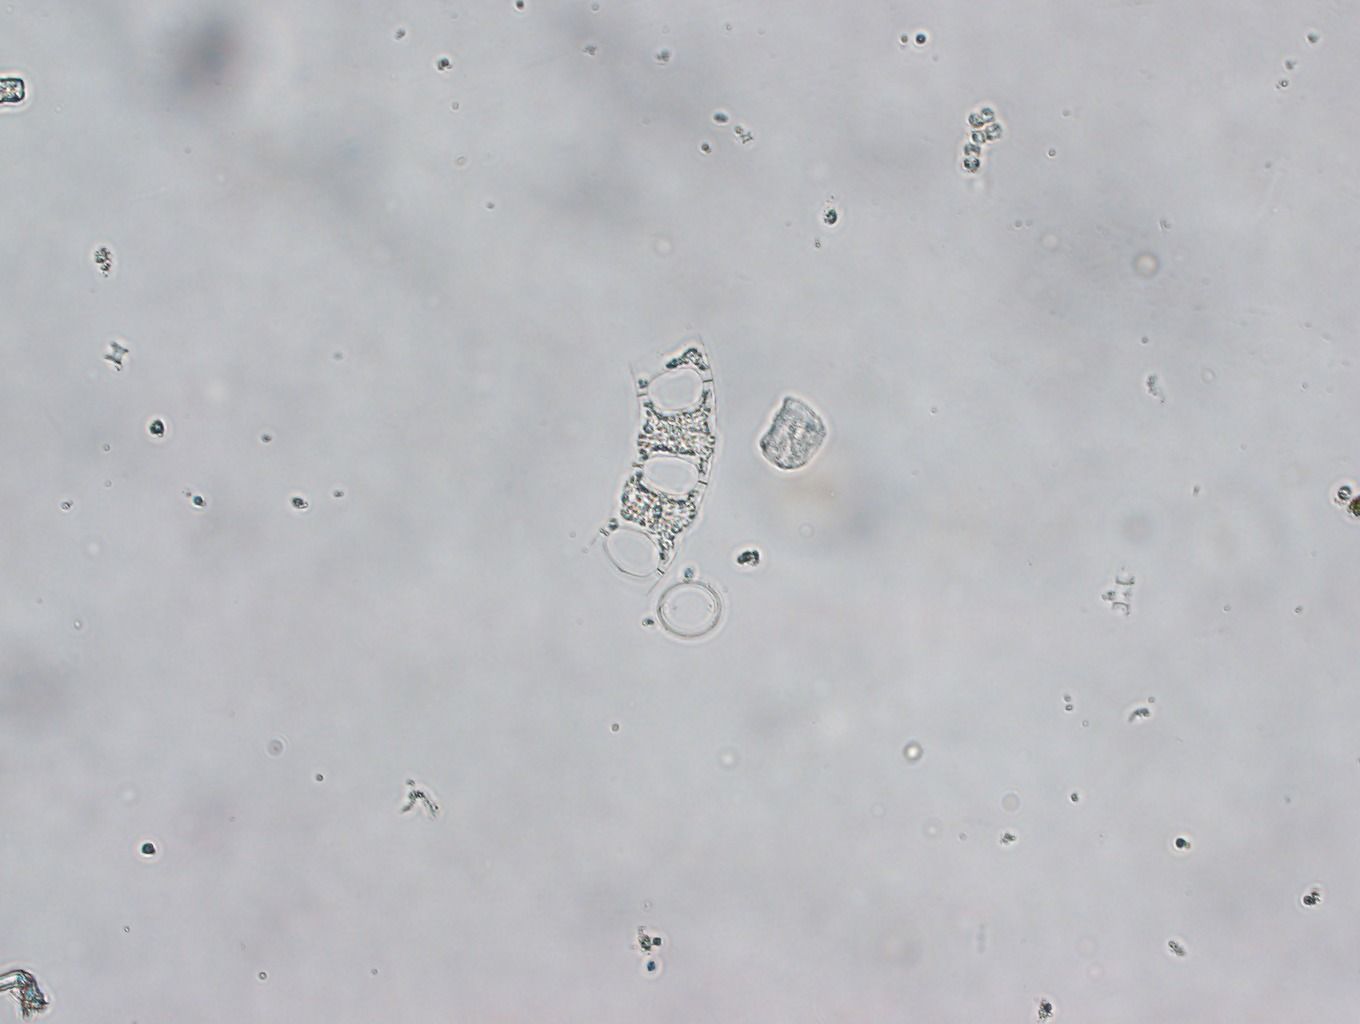eucampia: (542, 313, 724, 593)
